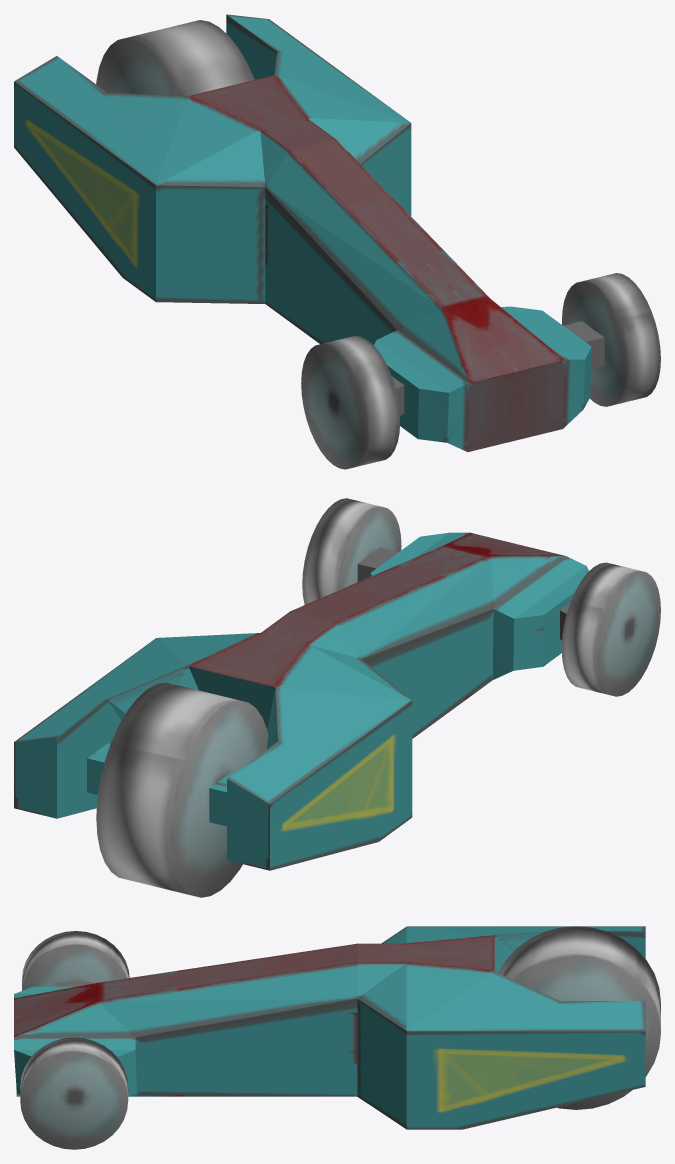
Rendered from scout-2.dae.
3 views of the same model, one above another, from view 1: azimuth 30°, elevation 25°; view 2: azimuth 150°, elevation 25°; view 3: azimuth 270°, elevation 25° (orthographic). The views are drawn at different scales.
Parts seen in each view (by area): view 1: Cube, Cylinder_001, Cylinder_002, Cylinder, Cube_001; view 2: Cube, Cylinder_002, Cylinder_001, Cylinder, Cube_001; view 3: Cube, Cylinder_002, Cylinder, Cylinder_001.
Boxes of the visible parts, <box> form: Cube: <box>14,14,591,451</box>; Cylinder_001: <box>301,335,400,469</box>; Cylinder_002: <box>96,20,254,95</box>; Cylinder: <box>562,273,660,406</box>; Cube_001: <box>563,321,604,369</box>; Cube: <box>14,532,588,870</box>; Cylinder_002: <box>96,682,268,897</box>; Cylinder_001: <box>561,562,660,696</box>; Cylinder: <box>302,498,401,604</box>; Cube_001: <box>357,547,398,581</box>; Cube: <box>14,926,645,1129</box>; Cylinder_002: <box>498,926,660,1109</box>; Cylinder: <box>20,1037,128,1149</box>; Cylinder_001: <box>22,931,129,990</box>.
Size of the model in its own units: 1.5 by 3.39 by 0.8865.
Materials: 2 (2 with a texture image).
